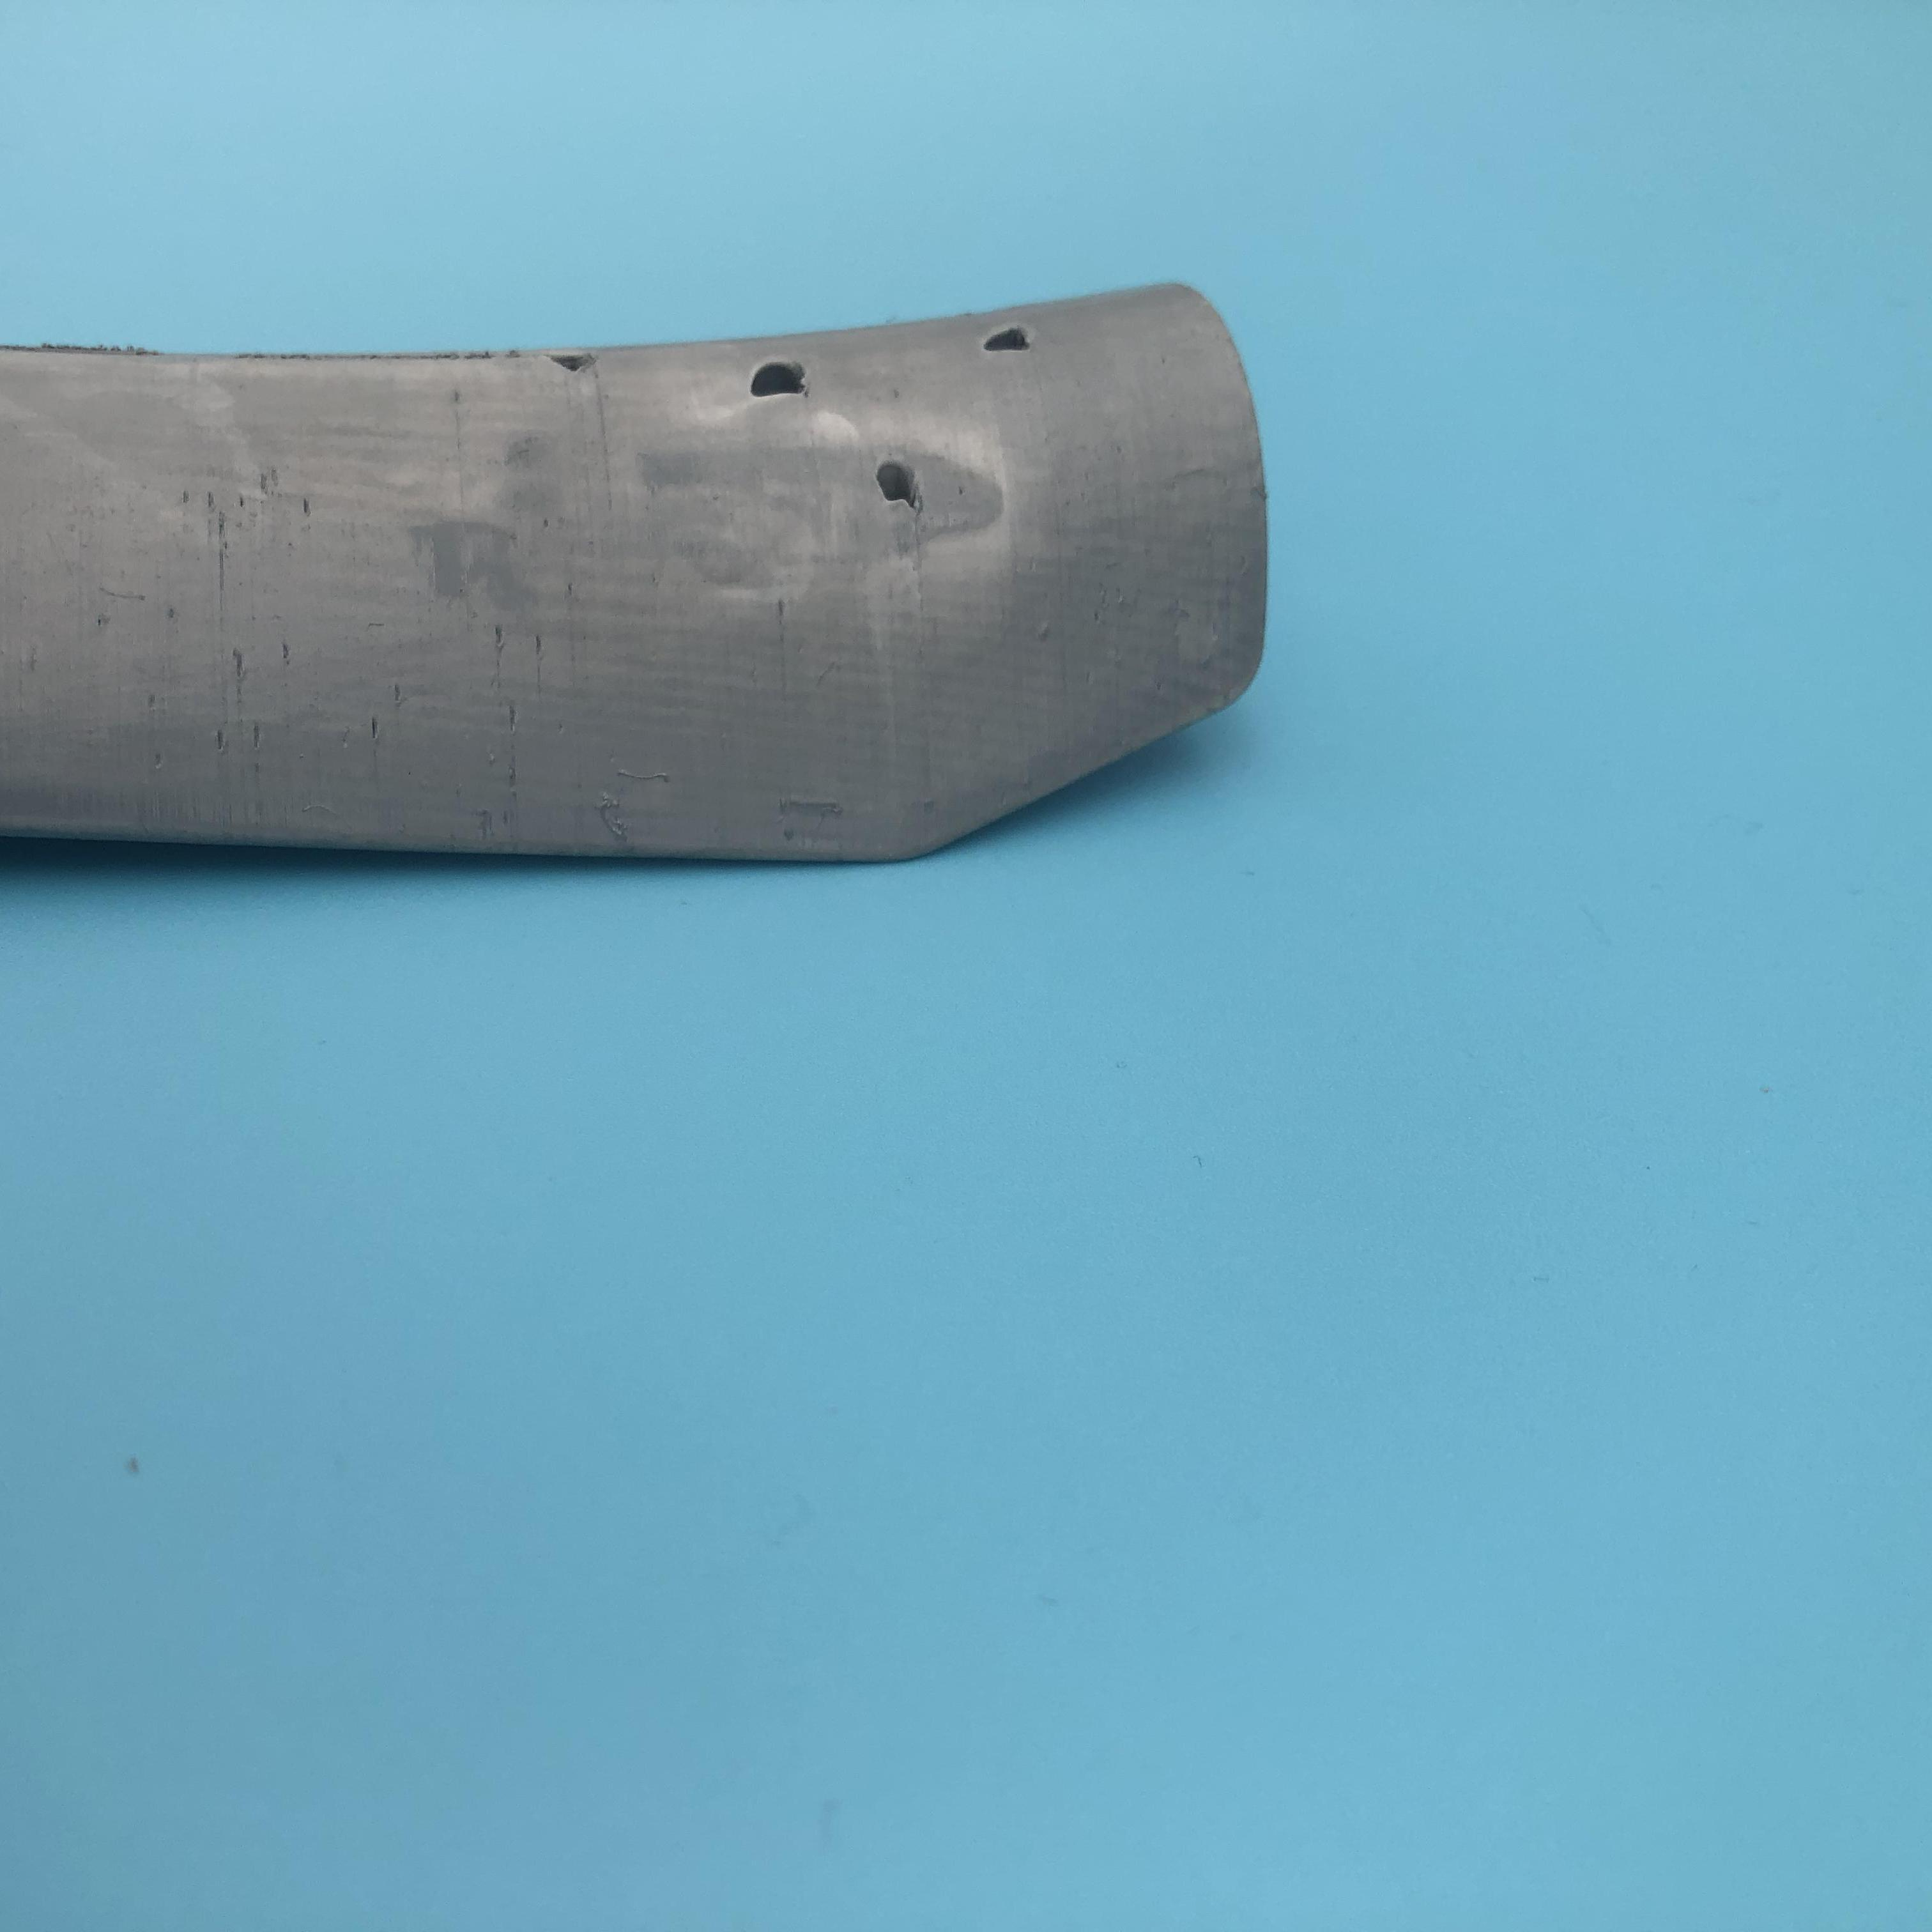breakdown: (540, 349, 835, 412), (874, 441, 948, 527), (973, 315, 1063, 368)
